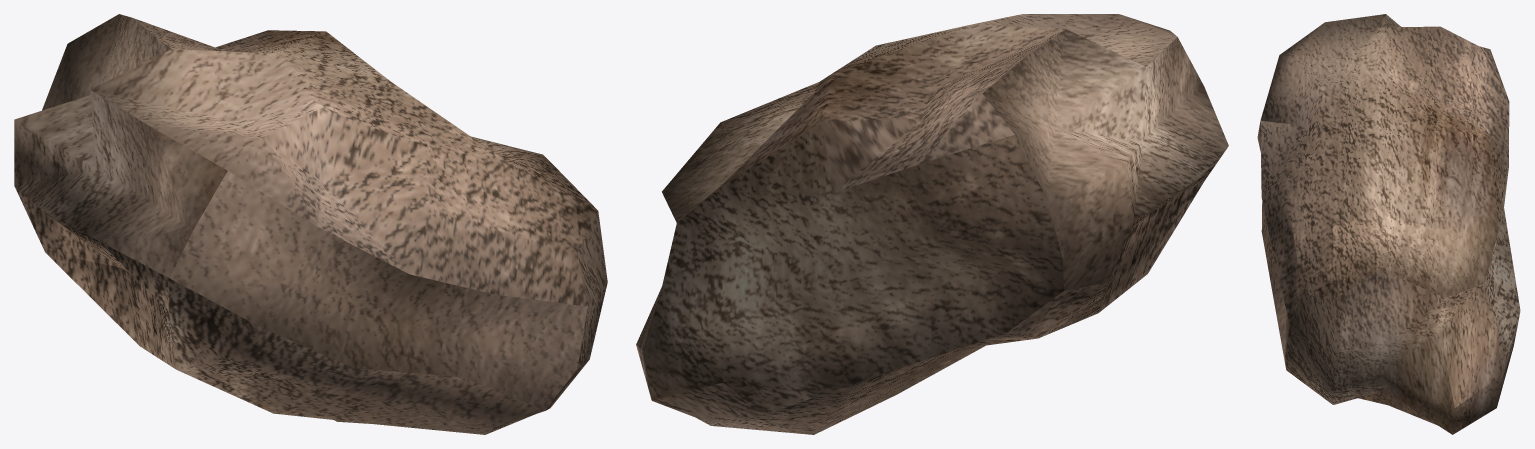
File: Asteroid2.fbx
The picture shows the model from 3 angles, left to right: view 1: azimuth 30°, elevation 25°; view 2: azimuth 150°, elevation 25°; view 3: azimuth 270°, elevation 25°; orthographic projection. The views are drawn at different scales.
Visible parts, largest first — view 1: Asteroid2; view 2: Asteroid2; view 3: Asteroid2.
Part boxes in pixels (x1=…): Asteroid2: x1=14, y1=14, x2=607, y2=434; Asteroid2: x1=636, y1=14, x2=1228, y2=434; Asteroid2: x1=1257, y1=14, x2=1520, y2=434.
Size of the model in its own units: 529 by 436 by 346.
